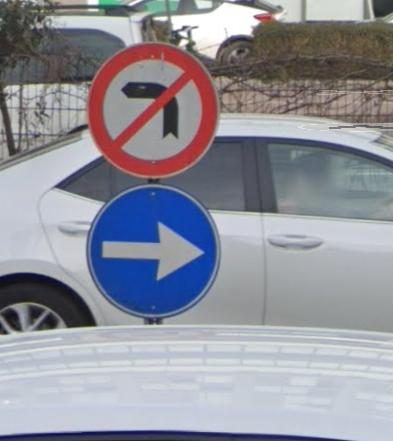leftturnsareforbidden: (90, 45, 218, 174)
turnright: (92, 184, 218, 312)
